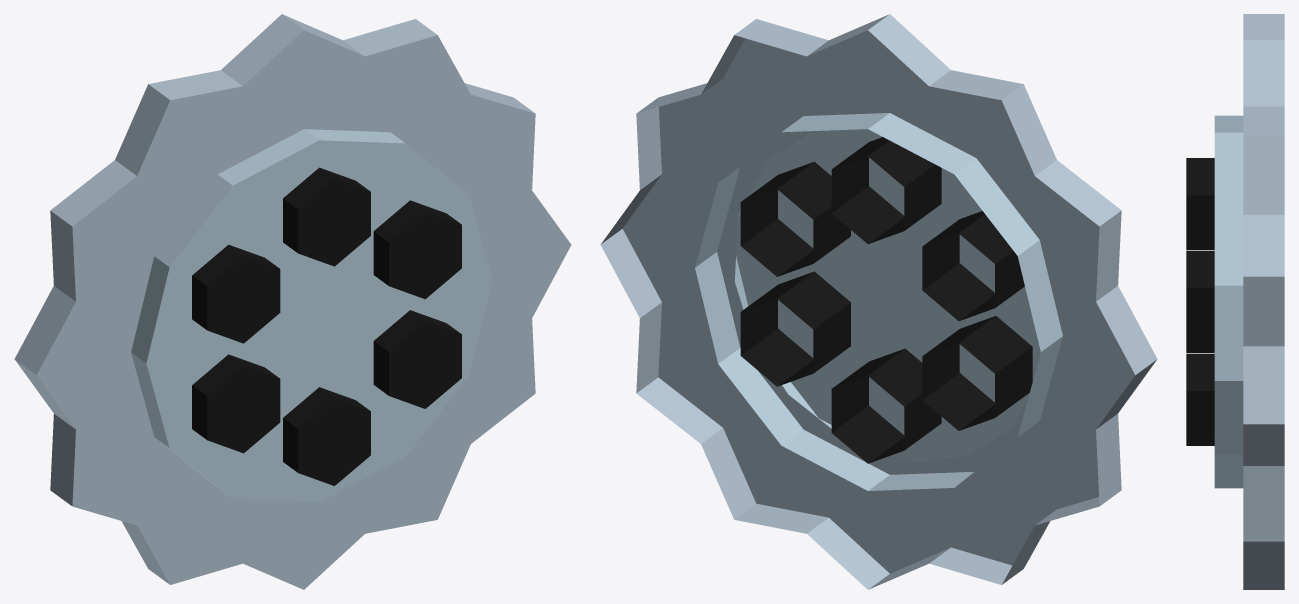
Rendered from cable block.fbx.
3 renders of one model, left to right at view 1: azimuth 30°, elevation 25°; view 2: azimuth 150°, elevation 25°; view 3: azimuth 270°, elevation 25°, orthographic. The views are drawn at different scales.
Parts seen in each view (by area): view 1: cable block; view 2: cable block; view 3: cable block.
Part boxes in pixels (<box>): cable block: <box>14,14,571,589</box>; cable block: <box>600,14,1157,589</box>; cable block: <box>1186,14,1284,589</box>.
Bounding box in the file's own units: 1.16 × 1.16 × 0.197.
Materials: 1 (1 with a texture image).
